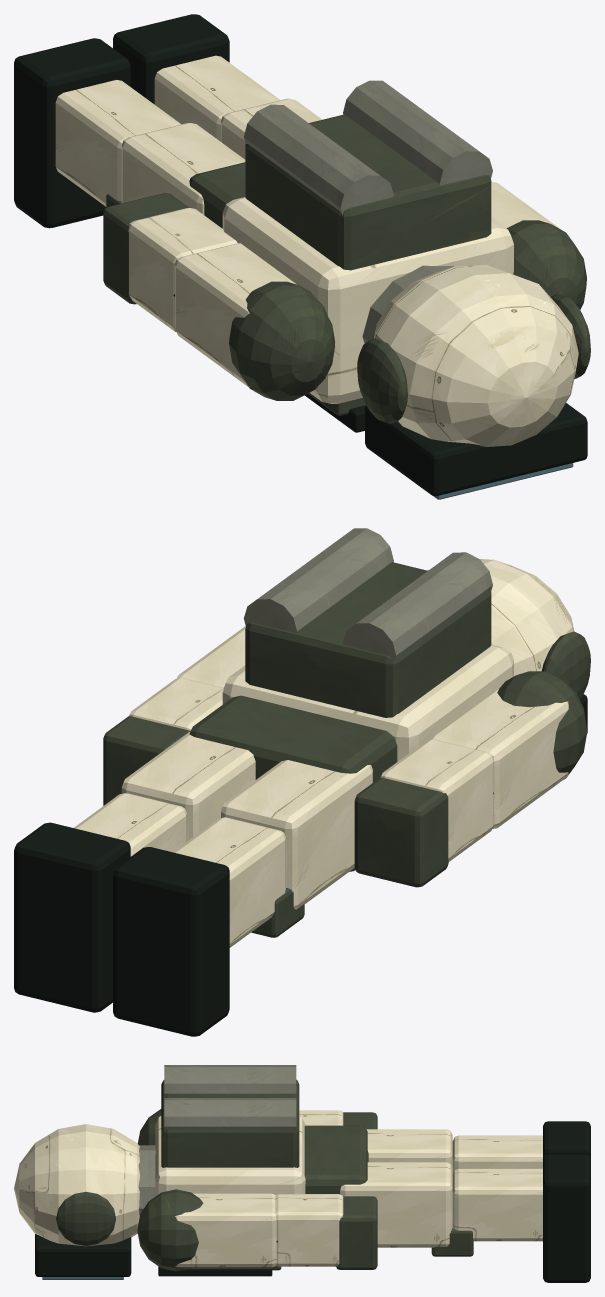
Rendered from astronauta.obj.
3 views of the same model, one above another, from view 1: azimuth 30°, elevation 25°; view 2: azimuth 150°, elevation 25°; view 3: azimuth 270°, elevation 25° (orthographic). The views are drawn at different scales.
Size of the model in its own units: 0.9 by 0.653 by 1.92.
6 materials, 5 textured.
